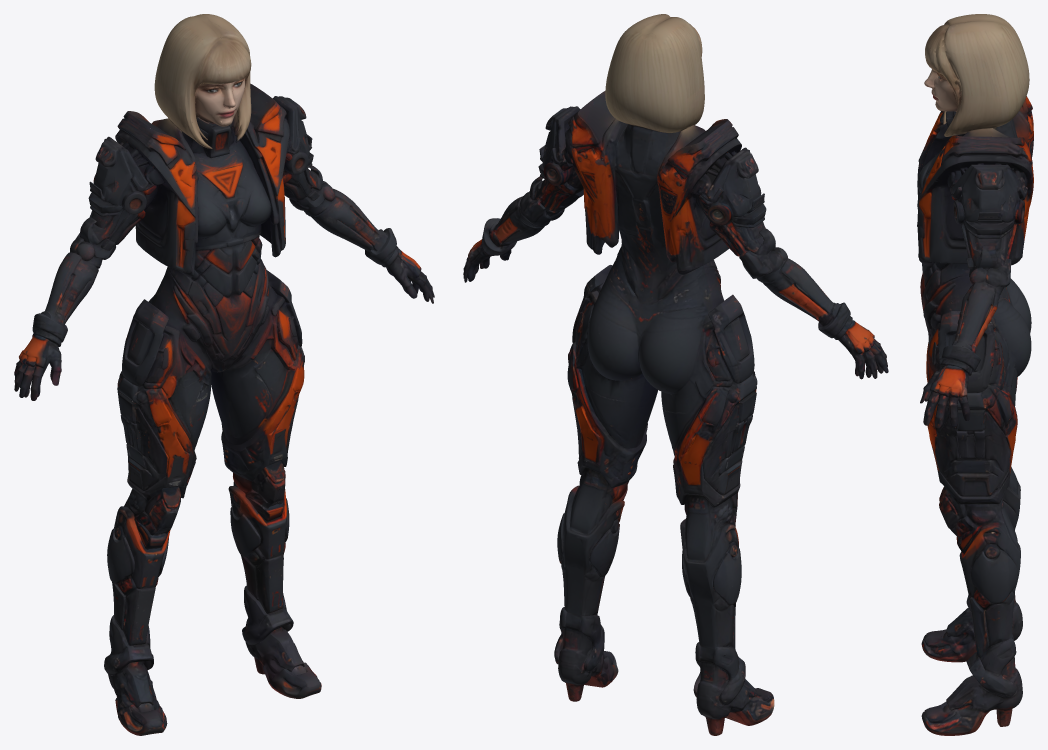
File: rubia1.glb
3 renders of one model, left to right at view 1: azimuth 30°, elevation 25°; view 2: azimuth 150°, elevation 25°; view 3: azimuth 270°, elevation 25°, orthographic.
Parts seen in each view (by area): view 1: node_0; view 2: node_0; view 3: node_0.
Boxes of the visible parts, x1,y1,x2,y2 form: node_0: (14, 14, 434, 735); node_0: (463, 14, 888, 735); node_0: (917, 14, 1033, 735).
Bounding box in the file's own units: 0.7362 × 1.15 × 0.1814.
1 material, 1 textured.
